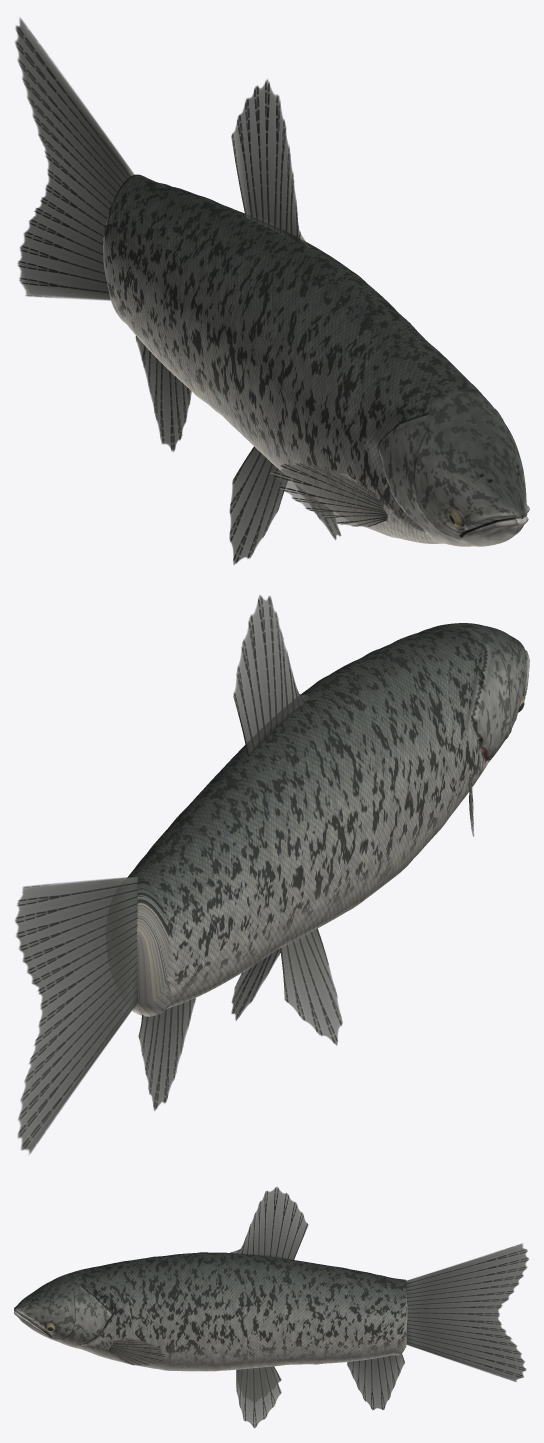
Rendered from tolpyga_pstra.glb.
The picture shows the model from 3 angles, top to bottom: view 1: azimuth 30°, elevation 25°; view 2: azimuth 150°, elevation 25°; view 3: azimuth 270°, elevation 25°; orthographic projection. The views are drawn at different scales.
Visible parts, largest first — view 1: Body, FinCaudal, FinDorsal1, FinPelvic, FinPectoral, FinAnal; view 2: Body, FinCaudal, FinDorsal1, FinPelvic, FinAnal; view 3: Body, FinCaudal, FinDorsal1, FinPelvic, FinAnal, FinPectoral.
Boxes of the visible parts, x1,y1,x2,y2 form: Body: (103, 174, 529, 546); FinCaudal: (15, 18, 134, 300); FinDorsal1: (231, 79, 310, 249); FinPelvic: (229, 446, 341, 564); FinPectoral: (270, 463, 387, 526); FinAnal: (135, 336, 191, 451); Body: (127, 623, 529, 1016); FinCaudal: (15, 876, 138, 1154); FinDorsal1: (233, 595, 310, 756); FinPelvic: (231, 928, 342, 1045); FinAnal: (138, 998, 195, 1111); Body: (14, 1252, 407, 1371); FinCaudal: (406, 1243, 528, 1381); FinDorsal1: (230, 1186, 308, 1260); FinPelvic: (236, 1366, 281, 1428); FinAnal: (347, 1354, 404, 1409); FinPectoral: (109, 1338, 166, 1365).
Bounding box in the file's own units: 0.2312 × 0.4963 × 1.
Materials: 8 (7 with a texture image).
